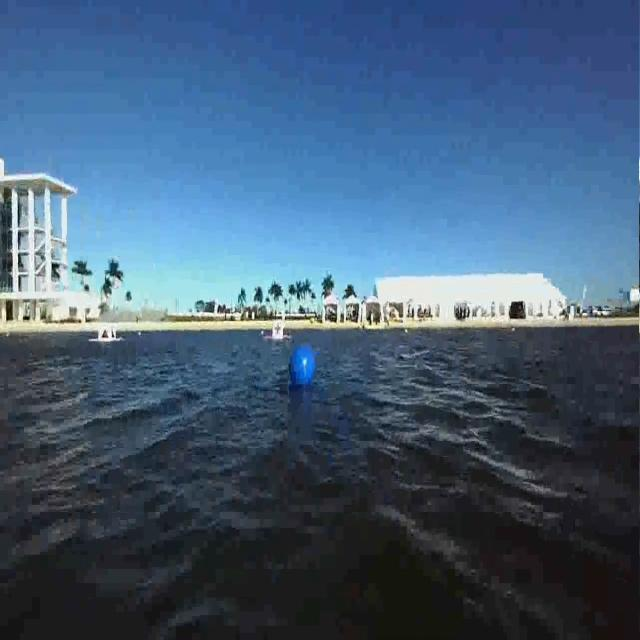blue-buoy: (290, 342, 317, 388)
